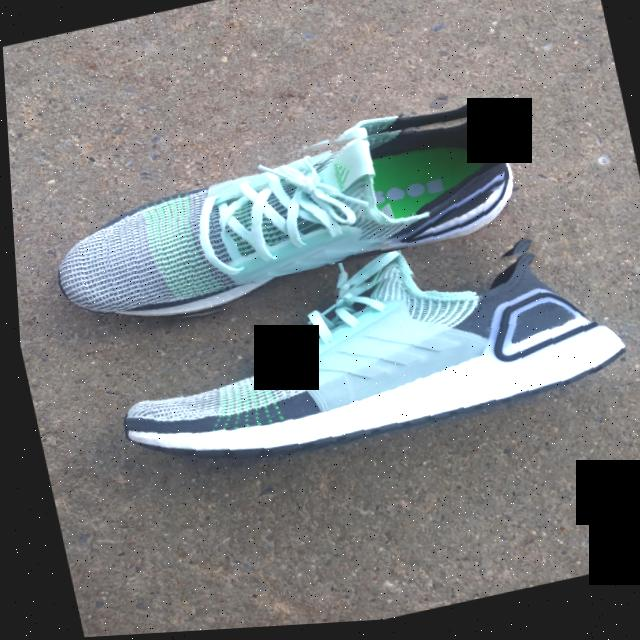shoe: (41, 220, 640, 504), (22, 84, 599, 327)
